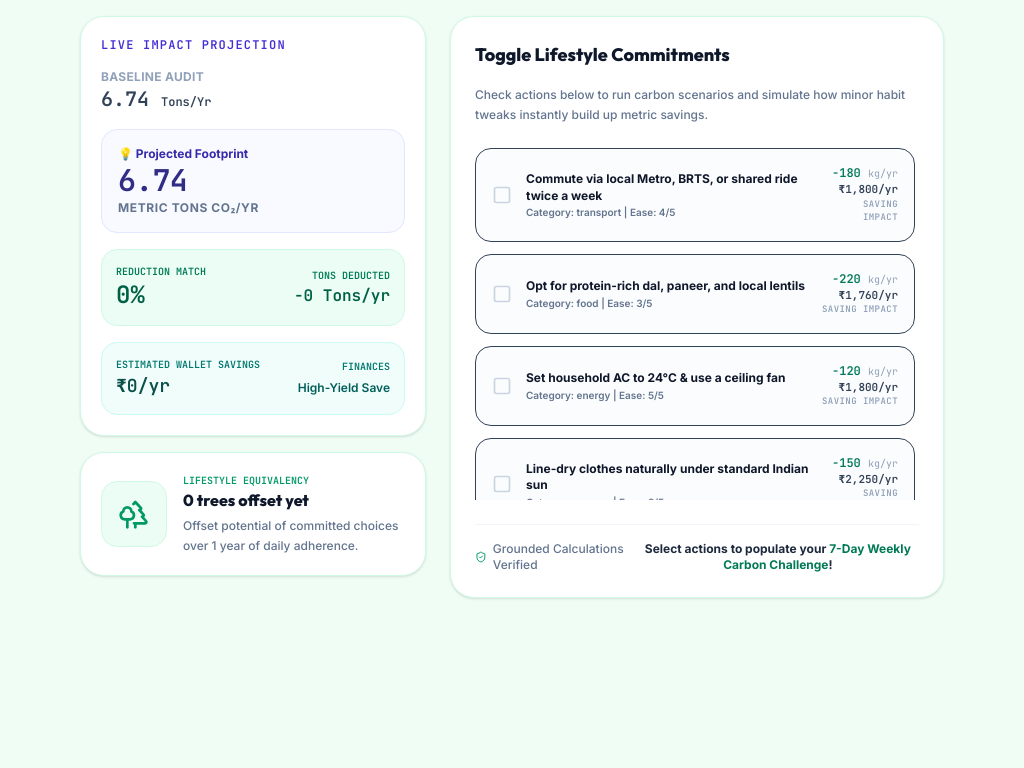
Test: Impact simulator › updates projected emissions and savings when actions are toggled
Expected: the text "6.74" is shown, [118,160,187,200]
Click the button "Set household AC". click: click(695, 386)
box: [475,346,915,426]
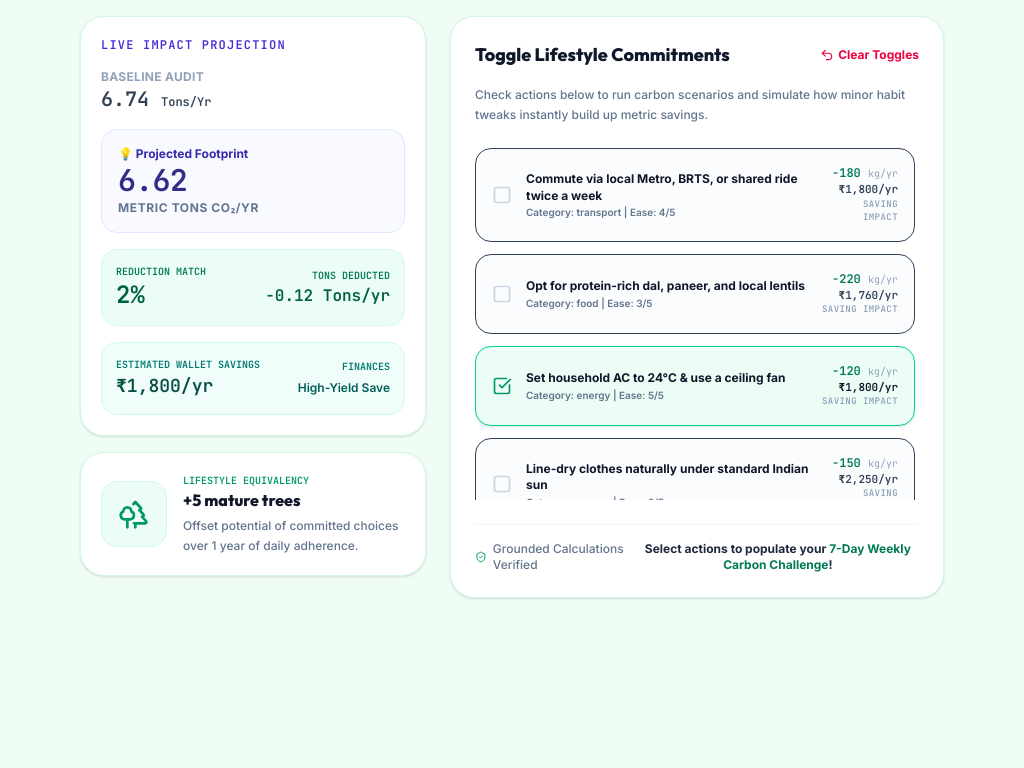
Expected: the text "6.62" is shown, [118,160,187,200]
Expected: the text "₹1,800/yr" below "Estimated Wallet savings" is shown, [116,374,213,397]
Click the button "Opt for protein-rich". click: click(695, 294)
box: [475,254,915,334]
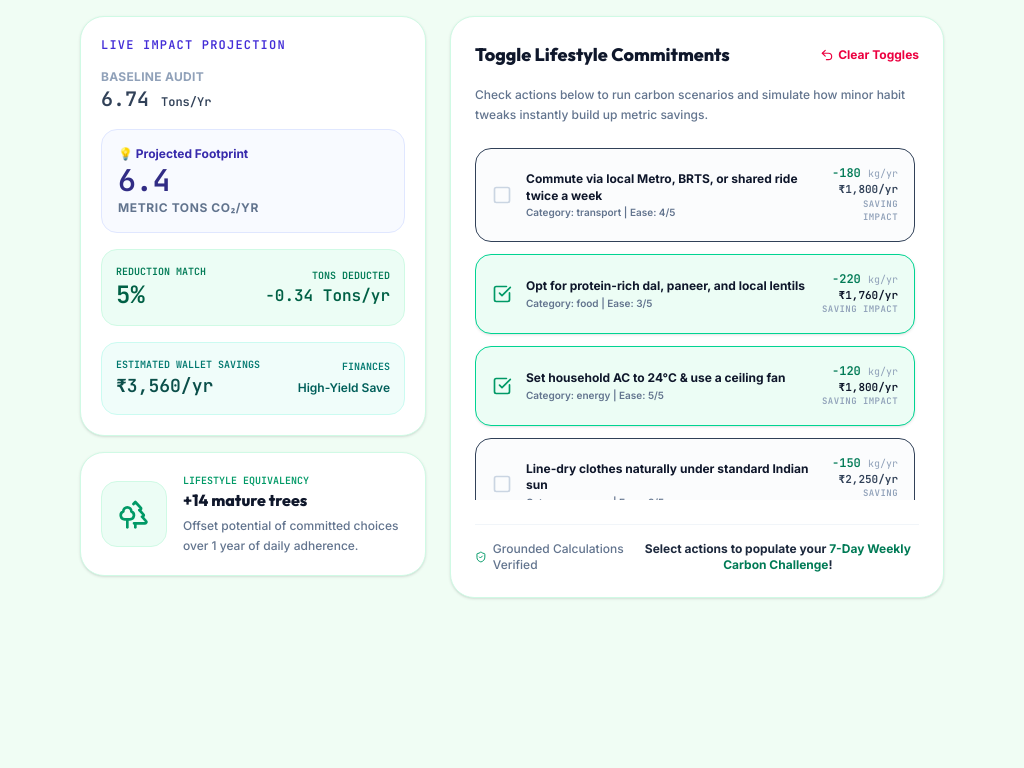
Expected: the text "6.4" is shown, [118,160,170,200]
Expected: the text "₹3,560/yr" is shown, [116,374,213,397]
